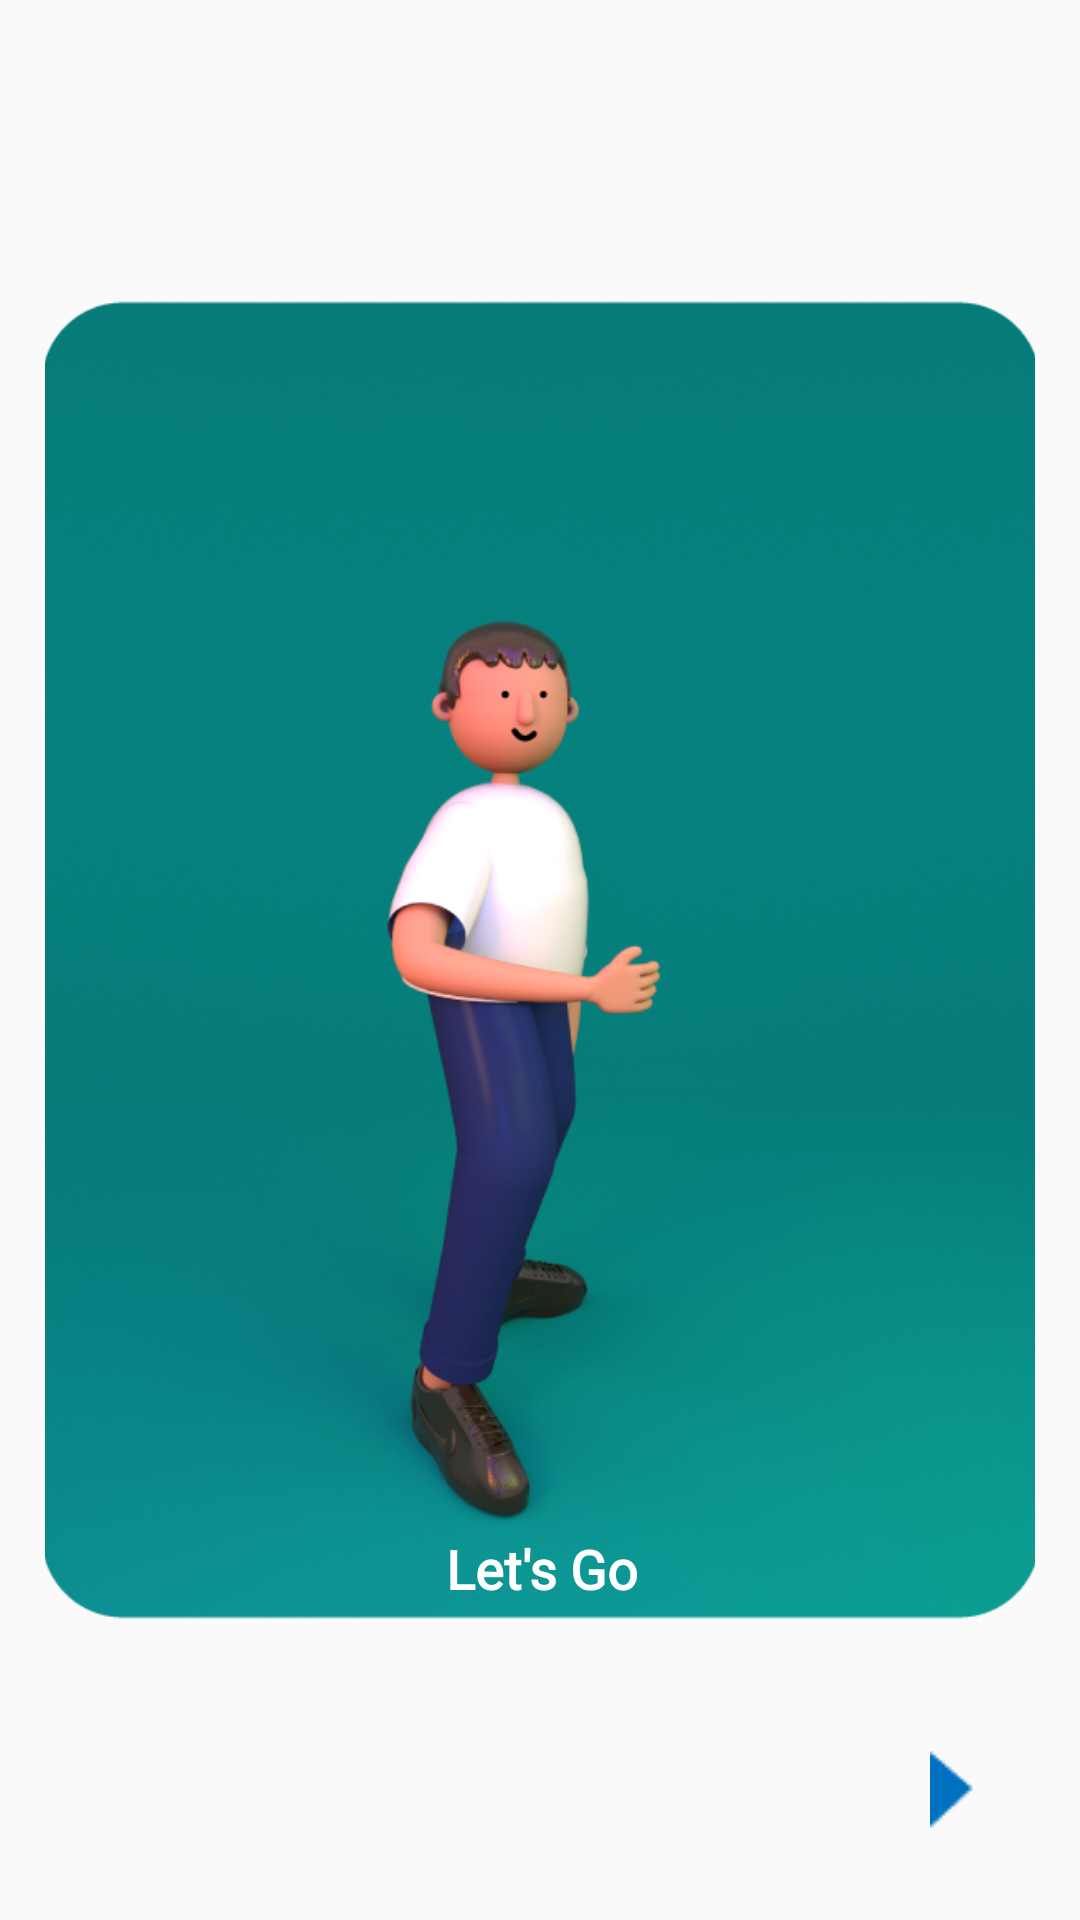

Named icons in this screenshot (1080px x 1920px) and their bounding boxes, {"left": x1, "top": y1, "right": x2, "bottom": y2}:
next: {"left": 930, "top": 1751, "right": 973, "bottom": 1828}
